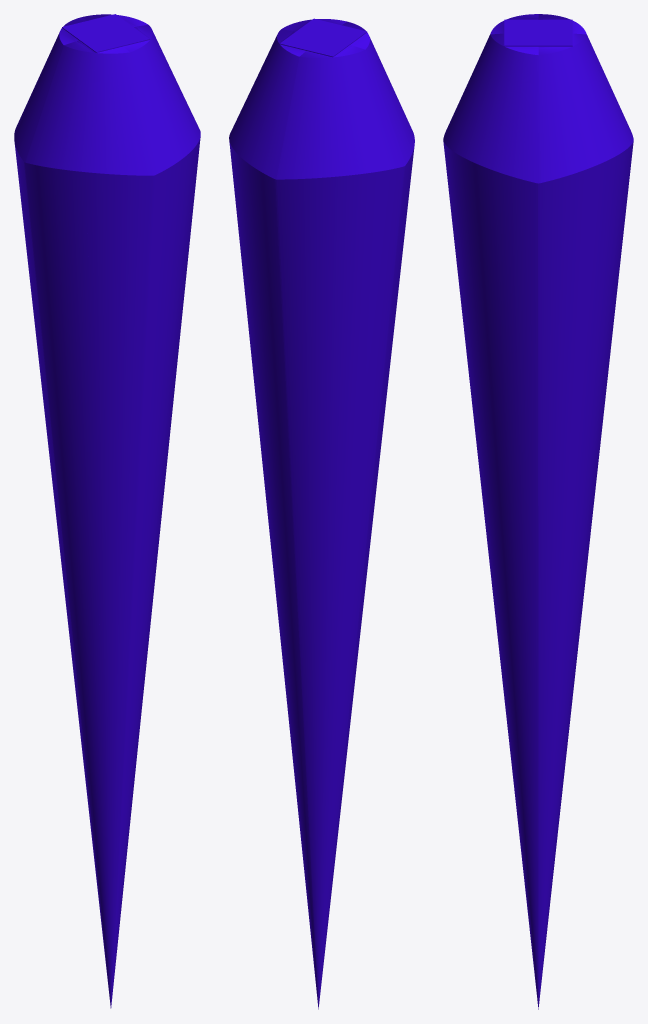
Rendered from pin_map.glb.
3 views of the same model, side by side, from view 1: azimuth 30°, elevation 25°; view 2: azimuth 150°, elevation 25°; view 3: azimuth 270°, elevation 25° (orthographic).
Visible parts, largest first — view 1: imagetostl_mesh0; view 2: imagetostl_mesh0; view 3: imagetostl_mesh0.
Part boxes in pixels (x1,y1,x2,y2): imagetostl_mesh0: (14, 14, 200, 1008); imagetostl_mesh0: (229, 18, 414, 1009); imagetostl_mesh0: (443, 14, 633, 1009).
Size of the model in its own units: 0.3742 by 2.11 by 0.3709.
